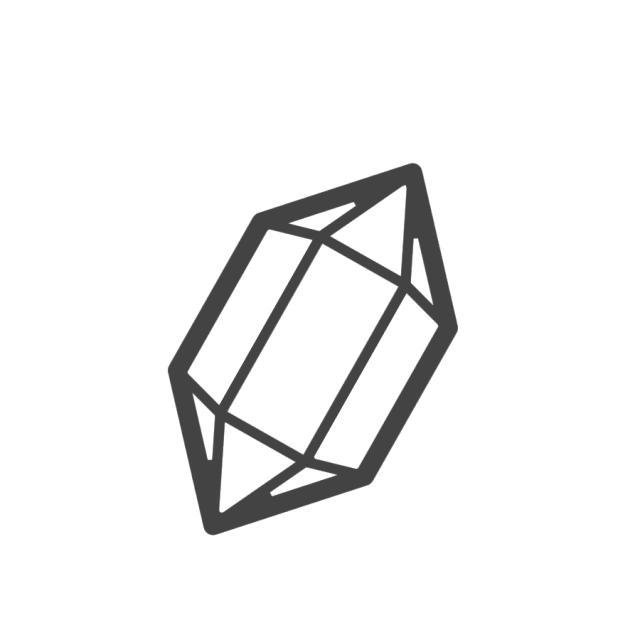crystal: (162, 157, 467, 545)
